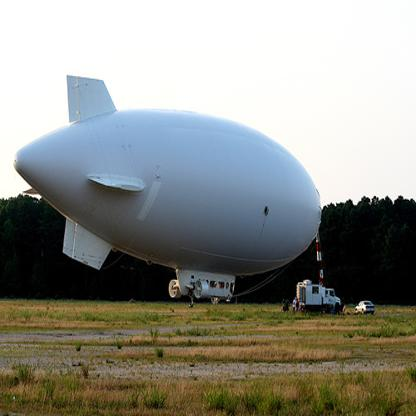Airship: (12, 75, 321, 306)
